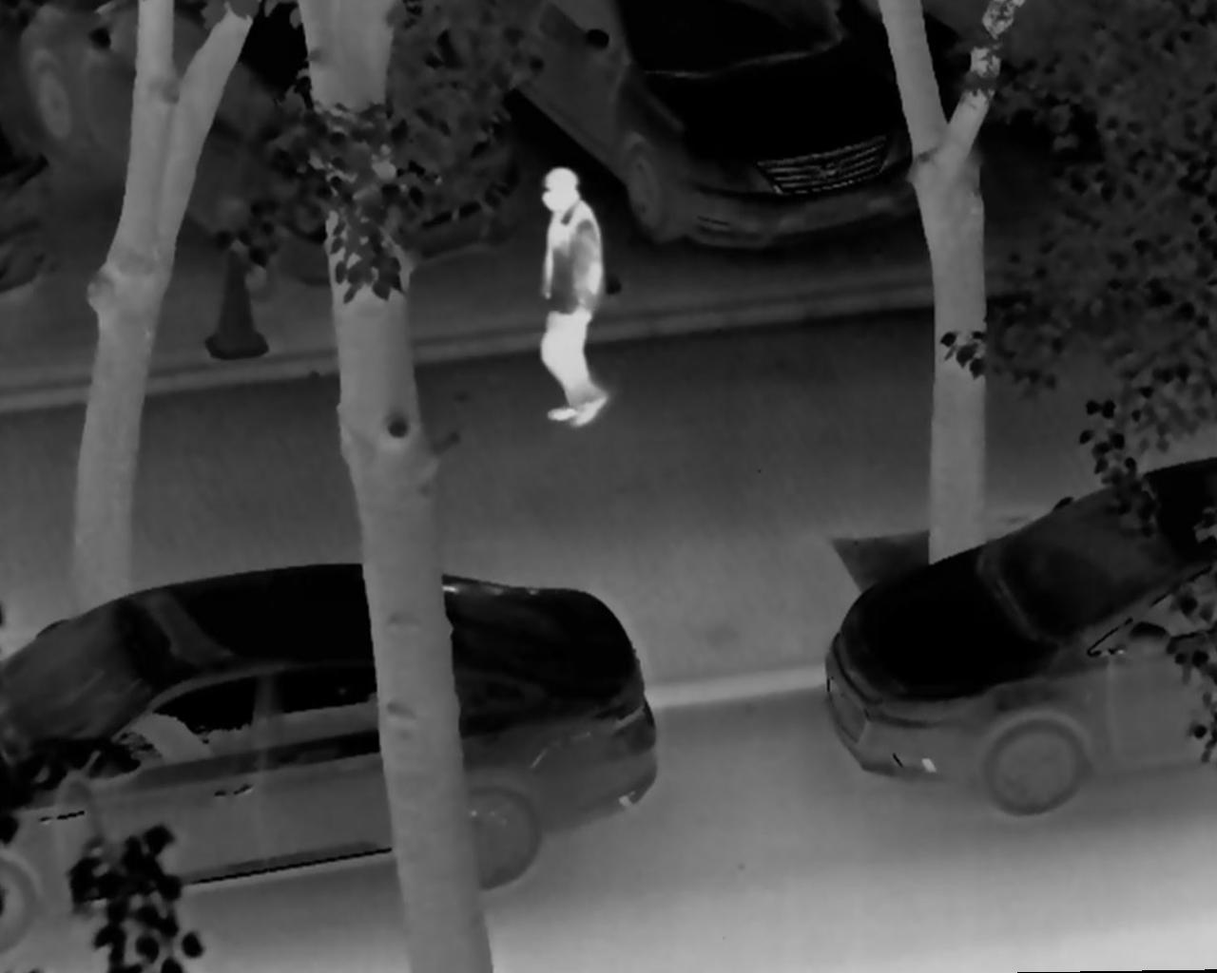person: (526, 163, 615, 430)
